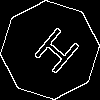H: (25, 25, 83, 84)
